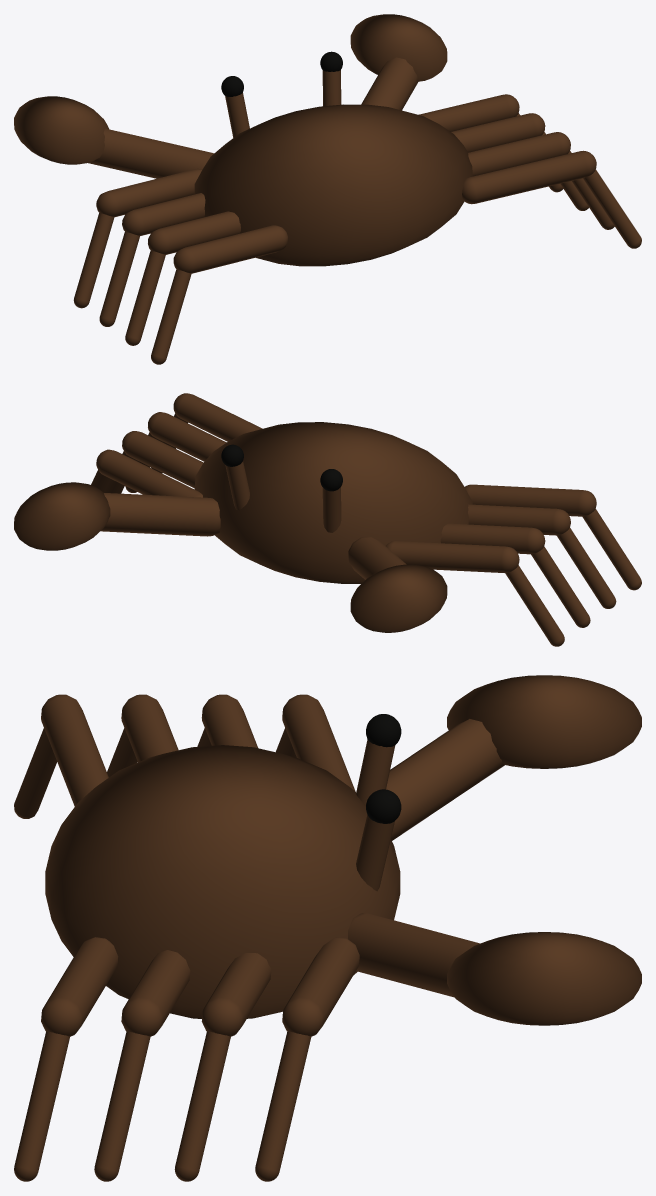
File: shore_crab.glb
3 renders of one model, top to bottom at view 1: azimuth 30°, elevation 25°; view 2: azimuth 150°, elevation 25°; view 3: azimuth 270°, elevation 25°, orthographic. The views are drawn at different scales.
Visible parts, largest first — view 1: BatchedSurface9, BatchedSurface8, BatchedSurface4, BatchedSurface, BatchedSurface3, BatchedSurface2, BatchedSurface7, BatchedSurface6, BatchedSurface5, _MeshInstance3D_32; view 2: BatchedSurface9, BatchedSurface, BatchedSurface4, BatchedSurface2, BatchedSurface3, BatchedSurface5, BatchedSurface6, BatchedSurface8, BatchedSurface7, _MeshInstance3D_32; view 3: BatchedSurface9, BatchedSurface8, BatchedSurface5, BatchedSurface7, BatchedSurface6, BatchedSurface4, BatchedSurface, BatchedSurface3, BatchedSurface2, _MeshInstance3D_32.
Boxes of the visible parts, bbox=[...] form: BatchedSurface9: bbox=[14, 14, 472, 266]; BatchedSurface8: bbox=[462, 150, 641, 248]; BatchedSurface4: bbox=[151, 225, 287, 364]; BatchedSurface: bbox=[73, 168, 201, 308]; BatchedSurface3: bbox=[125, 211, 240, 345]; BatchedSurface2: bbox=[99, 193, 205, 326]; BatchedSurface7: bbox=[468, 132, 614, 229]; BatchedSurface6: bbox=[451, 113, 588, 210]; BatchedSurface5: bbox=[418, 94, 563, 192]; _MeshInstance3D_32: bbox=[221, 51, 342, 96]; BatchedSurface9: bbox=[14, 422, 472, 632]; BatchedSurface: bbox=[386, 541, 564, 646]; BatchedSurface4: bbox=[465, 484, 641, 590]; BatchedSurface2: bbox=[440, 523, 590, 627]; BatchedSurface3: bbox=[468, 504, 616, 608]; BatchedSurface5: bbox=[91, 449, 202, 497]; BatchedSurface6: bbox=[105, 431, 203, 493]; BatchedSurface8: bbox=[151, 393, 262, 473]; BatchedSurface7: bbox=[125, 412, 226, 492]; _MeshInstance3D_32: bbox=[221, 444, 342, 491]; BatchedSurface9: bbox=[45, 675, 641, 1025]; BatchedSurface8: bbox=[14, 937, 118, 1181]; BatchedSurface5: bbox=[255, 937, 359, 1181]; BatchedSurface7: bbox=[94, 950, 190, 1181]; BatchedSurface6: bbox=[174, 953, 271, 1181]; BatchedSurface4: bbox=[14, 694, 108, 818]; BatchedSurface: bbox=[276, 694, 355, 791]; BatchedSurface3: bbox=[107, 694, 178, 777]; BatchedSurface2: bbox=[197, 694, 257, 747]; _MeshInstance3D_32: bbox=[366, 714, 401, 823].
Size of the model in its own units: 0.494 by 0.152 by 0.3515.
